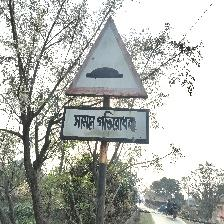Speed-breaker: (62, 16, 150, 143)
